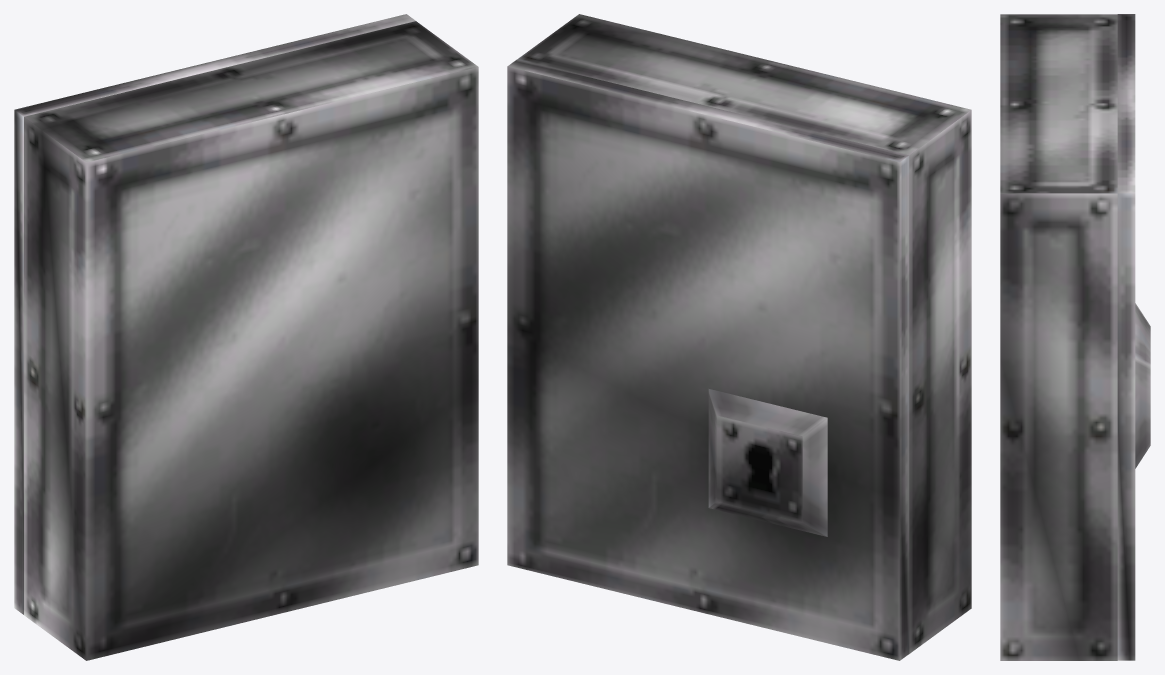
Rendered from INST_SWORDLIGHT_LOCKBOX_SILVER.fbx.
The picture shows the model from 3 angles, left to right: view 1: azimuth 30°, elevation 25°; view 2: azimuth 150°, elevation 25°; view 3: azimuth 270°, elevation 25°; orthographic projection. The views are drawn at different scales.
Parts seen in each view (by area): view 1: INST_SWORDLIGHT_LOCKBOX_SILVER; view 2: INST_SWORDLIGHT_LOCKBOX_SILVER; view 3: INST_SWORDLIGHT_LOCKBOX_SILVER.
Part boxes in pixels (left/top/right/bottom): INST_SWORDLIGHT_LOCKBOX_SILVER: left=14, top=14, right=478, bottom=660; INST_SWORDLIGHT_LOCKBOX_SILVER: left=507, top=14, right=971, bottom=660; INST_SWORDLIGHT_LOCKBOX_SILVER: left=1000, top=14, right=1150, bottom=660.
Bounding box in the file's own units: 7001 × 8503 × 2476.
3 materials, 3 textured.
